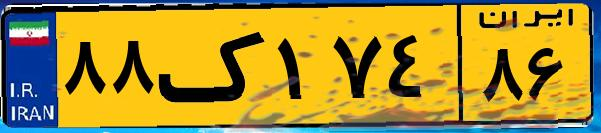1: (270, 28, 330, 110)
4: (385, 28, 445, 110)
6: (525, 38, 570, 115)
7: (330, 28, 385, 110)
8: (57, 26, 110, 100), (475, 38, 525, 113), (110, 28, 158, 98)
ک: (158, 12, 270, 120)
